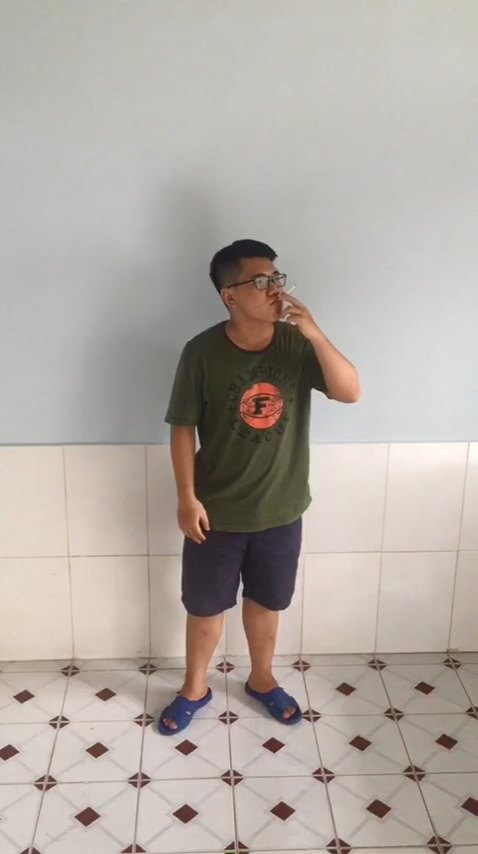person: (127, 206, 386, 750)
